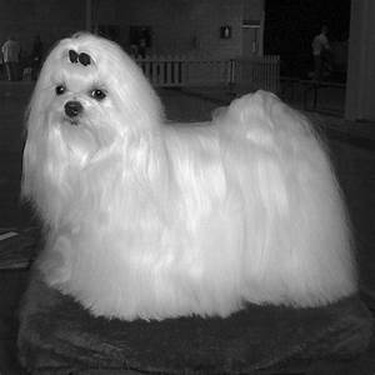dog: (16, 25, 364, 325)
